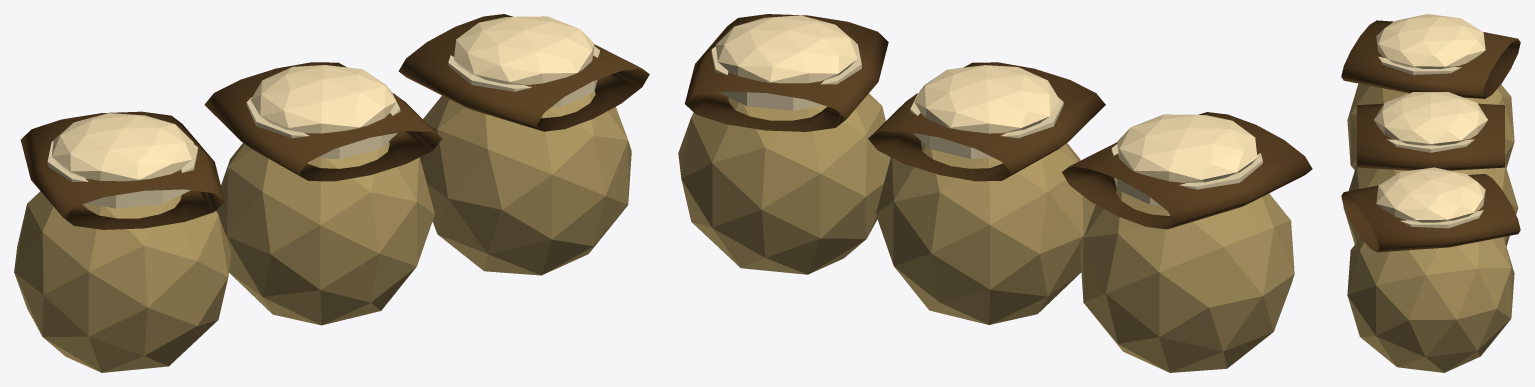
The model's file is pile-flour-3.obj.
3 views of the same model, side by side, from view 1: azimuth 30°, elevation 25°; view 2: azimuth 150°, elevation 25°; view 3: azimuth 270°, elevation 25° (orthographic). The views are drawn at different scales.
Parts seen in each view (by area): view 1: pile-flour-3; view 2: pile-flour-3; view 3: pile-flour-3.
Part boxes in pixels (x1,y1,x2,y2): pile-flour-3: [14, 14, 649, 372]; pile-flour-3: [678, 14, 1312, 372]; pile-flour-3: [1341, 14, 1520, 372].
Bounding box in the file's own units: 0.7915 × 0.3065 × 0.267.
1 material, 1 textured.
